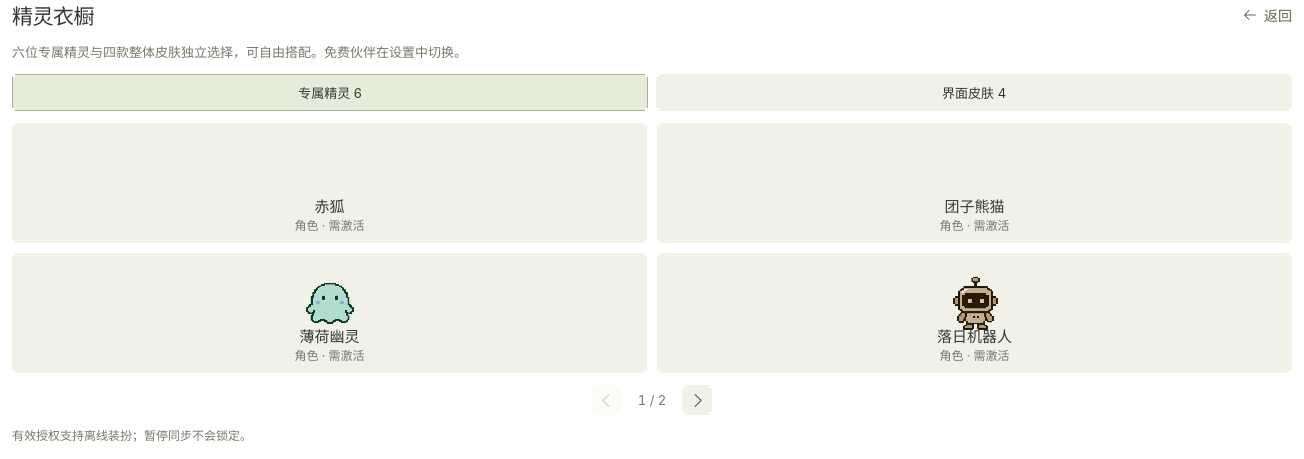
shows all six exclusive looks across two pages without free companions
Click the button named "下一页装扮": (697, 400) [682,385,712,415]
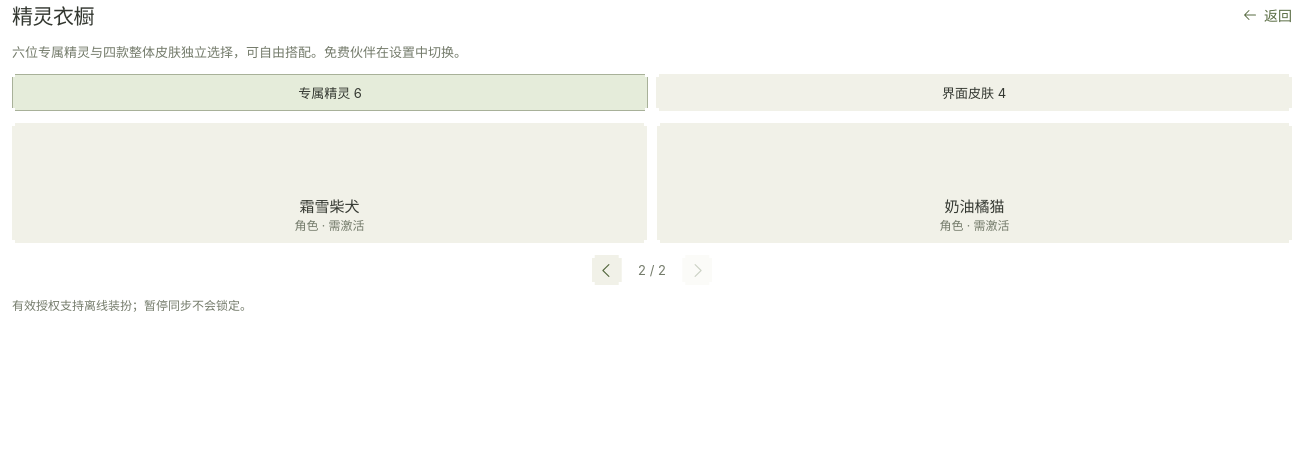
expect the button named "下一页装扮" is disabled: met, box [682,255,712,285]
Click the button named "上一页装扮": (607, 270) [592,255,622,285]
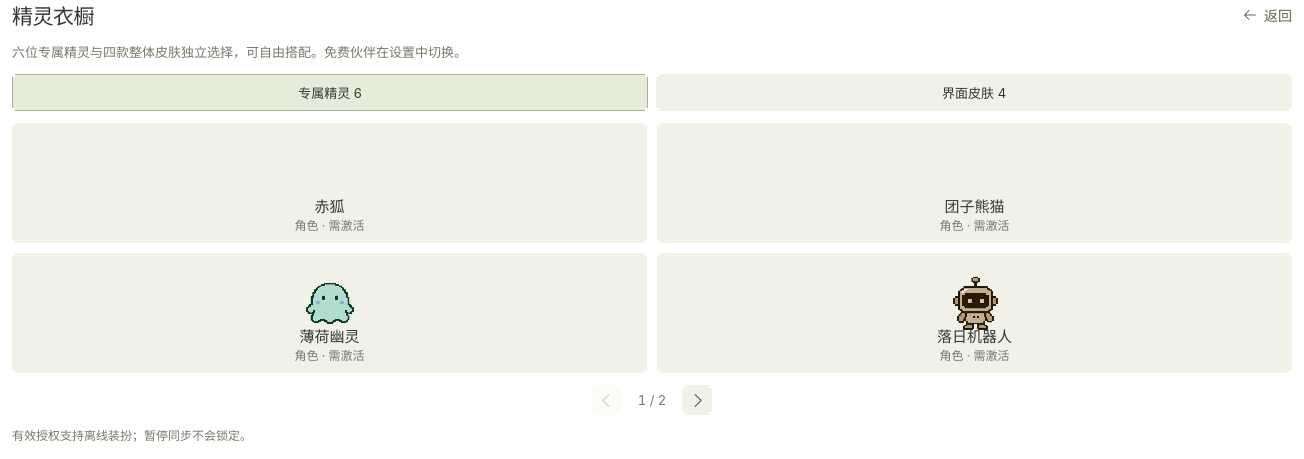
expect the button with aria-label "选择装扮 赤狐" is shown: met, box [12,123,647,243]
